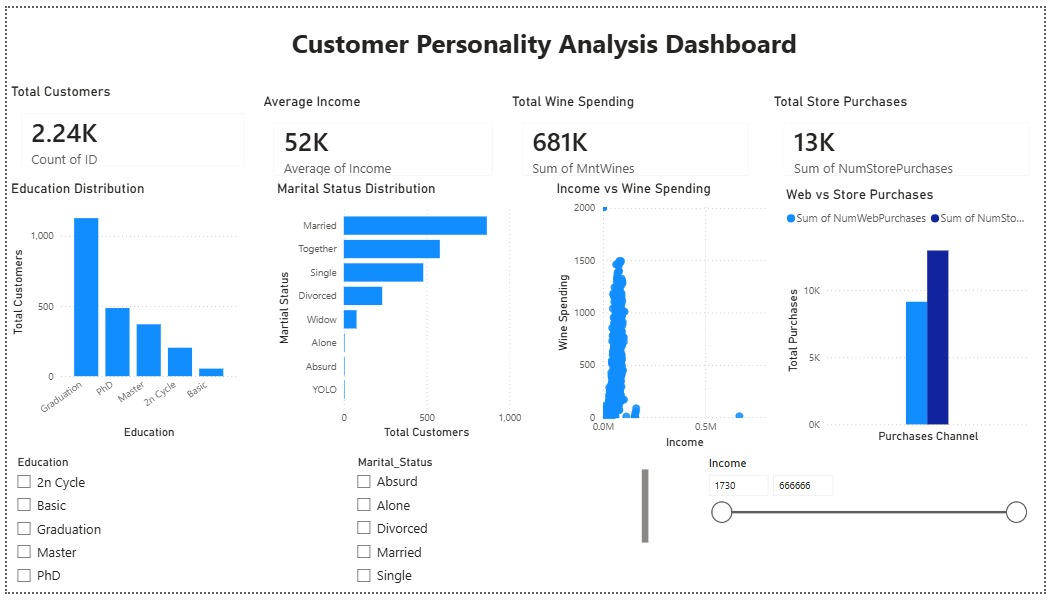

The dashboard page shown, as its layout file describes it:
{"tool":"powerbi","page":{"name":"Page 1","canvas":[1280,720],"ordinal":0},"visuals":[{"type":"cardVisual","title":"Total Customers","fields":{"Data":["CountNonNull(customer_personality.ID)"]},"box":[0,93.3,311.7,120],"z":0},{"type":"cardVisual","title":"Average Income","fields":{"Data":["Avg(customer_personality.Income)"]},"box":[311.7,105,305,120],"z":1000},{"type":"cardVisual","title":"Total Wine Spending","fields":{"Data":["Sum(customer_personality.MntWines)"]},"box":[618.3,105,315,120],"z":2000},{"type":"cardVisual","title":"Total Store Purchases","fields":{"Data":["Sum(customer_personality.NumStorePurchases)"]},"box":[941.7,105,338.3,120],"z":3000},{"type":"clusteredColumnChart","title":"Education Distribution","fields":{"Category":["customer_personality.Education"],"Y":["CountNonNull(customer_personality.ID)"]},"box":[0,213.3,288.3,323.3],"z":4000},{"type":"clusteredBarChart","title":"Marital Status Distribution","fields":{"Y":["CountNonNull(customer_personality.ID)"],"Category":["customer_personality.Marital_Status"]},"box":[328.3,213.3,311.7,323.3],"z":5000},{"type":"scatterChart","title":"Income vs Wine Spending","fields":{"X":["customer_personality.Income"],"Y":["customer_personality.MntWines"]},"box":[673.3,213.3,283.3,335],"z":6000},{"type":"clusteredColumnChart","title":"Web vs Store Purchases","fields":{"Y":["Sum(customer_personality.NumWebPurchases)","Sum(customer_personality.NumStorePurchases)"]},"box":[956.7,220,310,321.7],"z":7000},{"type":"textbox","box":[100,15,1126.7,53.3],"z":9000},{"type":"slicer","fields":{"Values":["customer_personality.Education"]},"box":[0,546.7,408.3,173.3],"z":9001},{"type":"slicer","fields":{"Values":["customer_personality.Marital_Status"]},"box":[420,546.7,376.7,173.3],"z":9002},{"type":"slicer","fields":{"Values":["customer_personality.Income"]},"box":[853.3,548.3,413.3,171.7],"z":9003}]}

Visuals, with their boxes in screenshot pixels (x1, y1, x2, y2), scaled from the page's 1280x720 canvas onto the 1050x600 screenshot:
"Total Customers" cardVisual: {"left": 0, "top": 78, "right": 256, "bottom": 178}
"Average Income" cardVisual: {"left": 256, "top": 88, "right": 506, "bottom": 188}
"Total Wine Spending" cardVisual: {"left": 507, "top": 88, "right": 766, "bottom": 188}
"Total Store Purchases" cardVisual: {"left": 772, "top": 88, "right": 1049, "bottom": 188}
"Education Distribution" clusteredColumnChart: {"left": 0, "top": 178, "right": 236, "bottom": 447}
"Marital Status Distribution" clusteredBarChart: {"left": 269, "top": 178, "right": 525, "bottom": 447}
"Income vs Wine Spending" scatterChart: {"left": 552, "top": 178, "right": 785, "bottom": 457}
"Web vs Store Purchases" clusteredColumnChart: {"left": 785, "top": 183, "right": 1039, "bottom": 451}
textbox: {"left": 82, "top": 12, "right": 1006, "bottom": 57}
slicer - customer_personality.Education: {"left": 0, "top": 456, "right": 335, "bottom": 599}
slicer - customer_personality.Marital_Status: {"left": 345, "top": 456, "right": 654, "bottom": 599}
slicer - customer_personality.Income: {"left": 700, "top": 457, "right": 1039, "bottom": 599}
